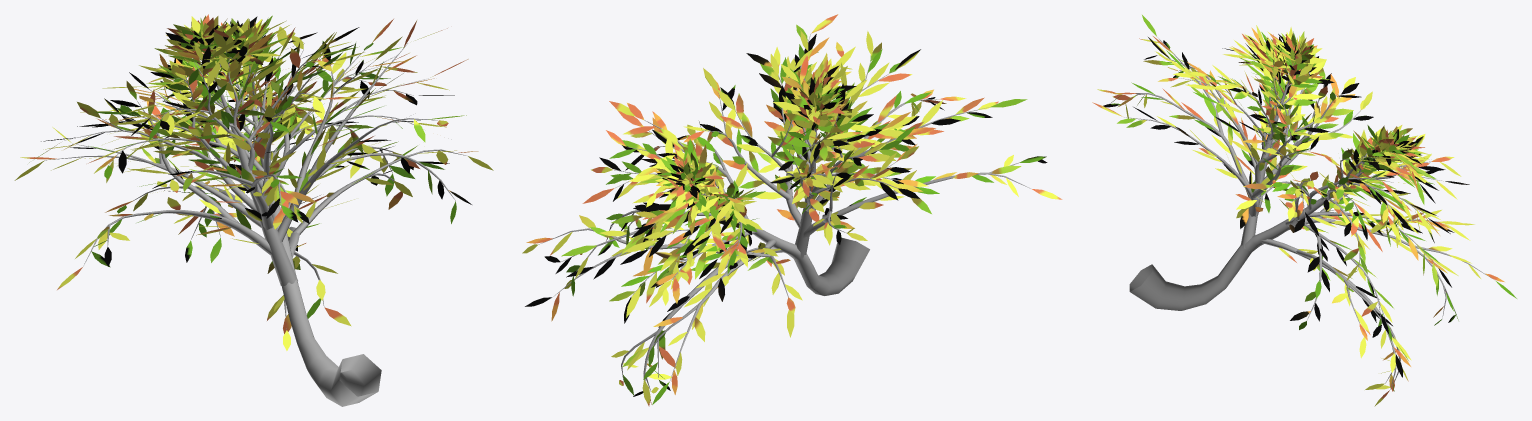
The model's file is Tree for cliff.fbx.
3 renders of one model, left to right at view 1: azimuth 30°, elevation 25°; view 2: azimuth 150°, elevation 25°; view 3: azimuth 270°, elevation 25°, orthographic. The views are drawn at different scales.
Visible parts, largest first — view 1: Tree_for_cliff_LOD0; view 2: Tree_for_cliff_LOD0; view 3: Tree_for_cliff_LOD0.
Part boxes in pixels (<box>): Tree_for_cliff_LOD0: <box>14,14,493,406</box>; Tree_for_cliff_LOD0: <box>522,14,1062,406</box>; Tree_for_cliff_LOD0: <box>1092,15,1516,406</box>.
Size of what is drawn, in the model's own units: 75.84 by 52.82 by 65.9.
